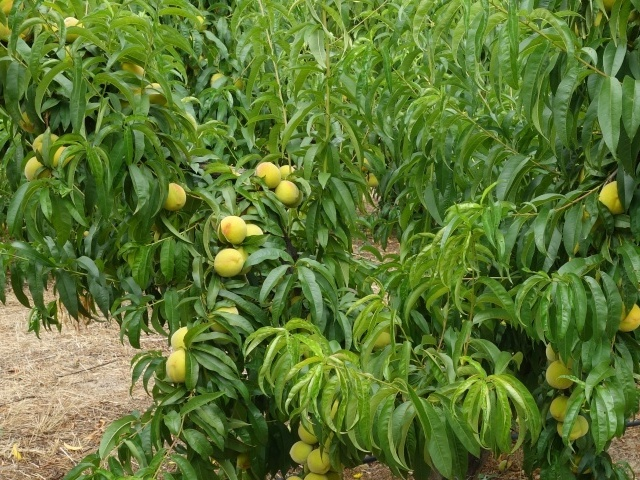peach: (595, 174, 631, 217), (163, 344, 197, 387), (211, 242, 248, 278), (540, 353, 576, 390), (163, 320, 201, 355), (13, 153, 52, 187), (215, 213, 250, 249), (156, 181, 188, 214), (206, 303, 241, 333), (284, 437, 315, 468), (546, 392, 578, 422), (615, 296, 640, 334), (553, 414, 585, 443), (29, 128, 63, 155), (273, 178, 302, 209), (295, 416, 323, 448), (539, 338, 565, 372), (305, 446, 334, 476), (255, 159, 283, 190), (237, 220, 265, 248), (143, 80, 170, 108), (273, 160, 301, 186)
